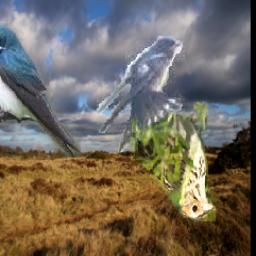Sparrow: (131, 103, 216, 222)
Swallow: (0, 23, 82, 158), (98, 36, 186, 154)
